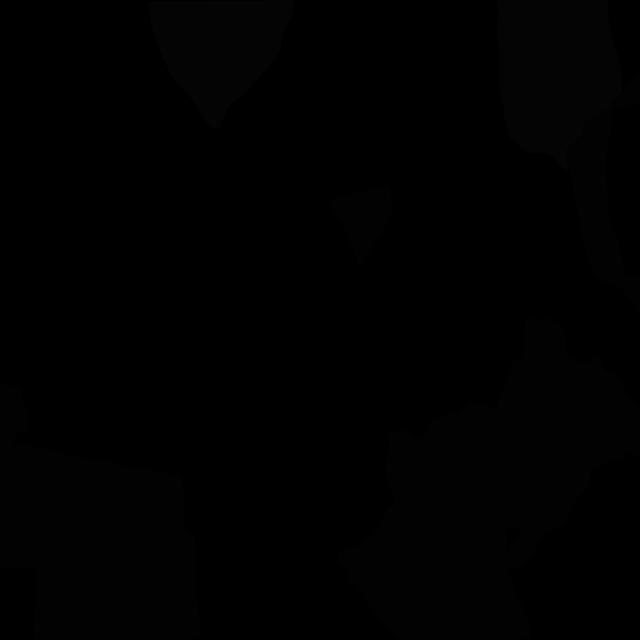cardboard: (385, 317, 640, 570), (0, 384, 201, 639), (338, 484, 530, 640), (566, 72, 640, 315), (327, 186, 394, 268)
soft_plastic: (497, 0, 622, 170), (147, 0, 294, 129)
